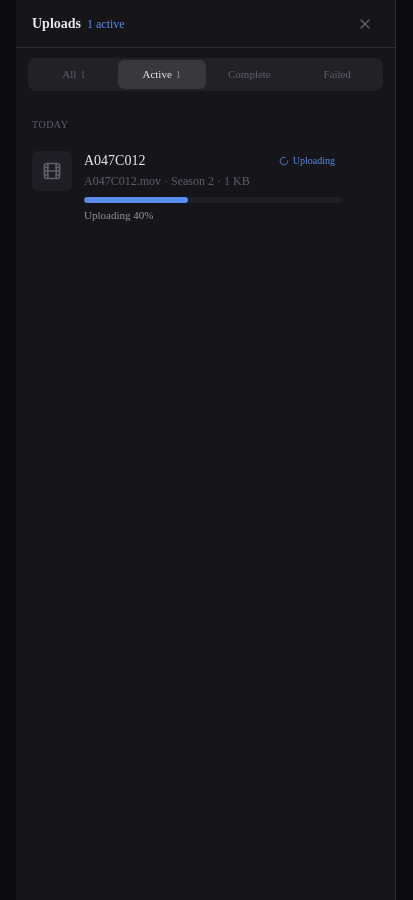
Test: renaming from the uploads panel › shows why a refused rename snapped back
Step 1. Click the button "A047C012" → (159, 160), box x1=84 y1=150 x2=235 y2=170
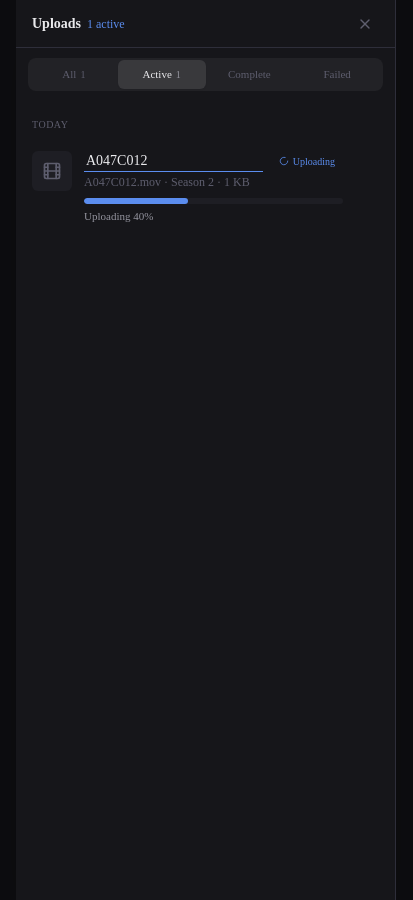
Step 2. Replace the text in the field named "Asset name" with "Ep04" → (173, 161), box x1=84 y1=150 x2=263 y2=172
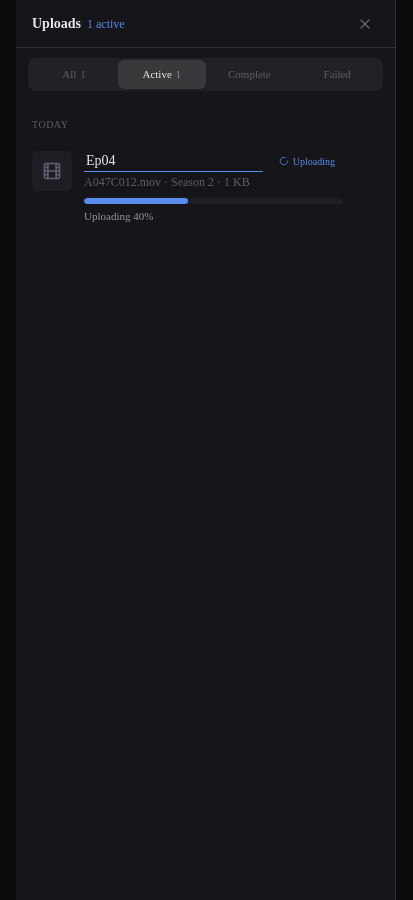
Step 3. Press Enter in the field named "Asset name", box x1=84 y1=150 x2=263 y2=172
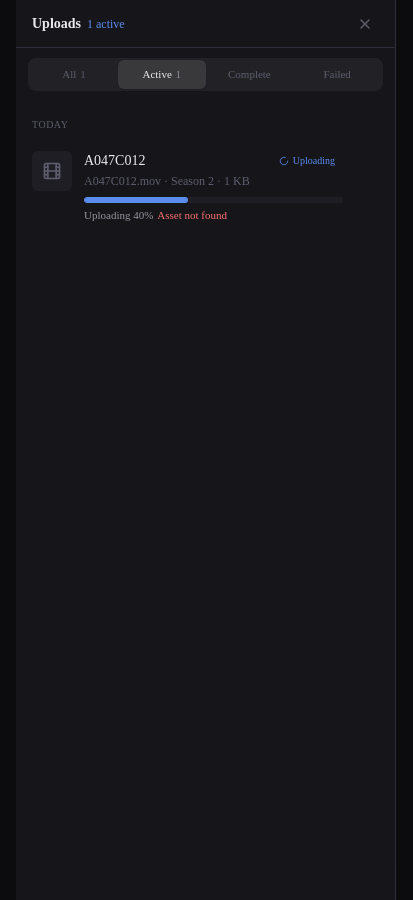
Expected: the text "Asset not found" is shown, x1=157 y1=206 x2=227 y2=223
Expected: the button "A047C012" is shown, x1=84 y1=150 x2=235 y2=170
